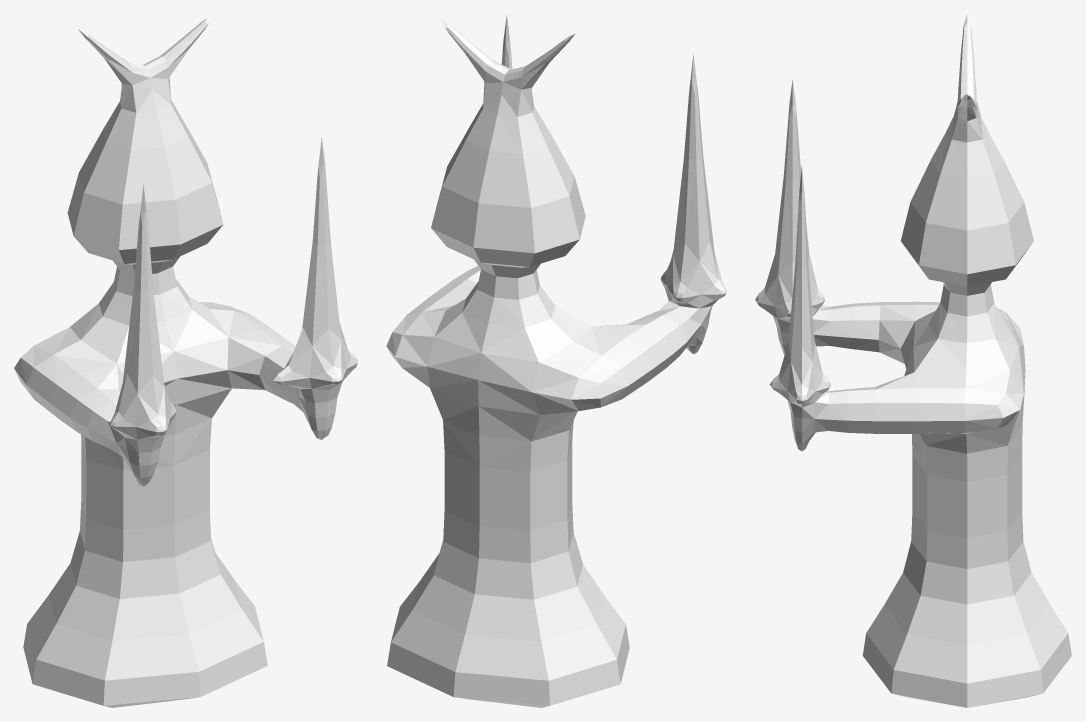
Rendered from wattacker.obj.
3 views of the same model, side by side, from view 1: azimuth 30°, elevation 25°; view 2: azimuth 150°, elevation 25°; view 3: azimuth 270°, elevation 25° (orthographic). The views are drawn at different scales.
Visible parts, largest first — view 1: Cube; view 2: Cube; view 3: Cube.
Part boxes in pixels (box(x1,y1,x2,y2)): Cube: box(14, 14, 357, 707); Cube: box(386, 14, 726, 707); Cube: box(755, 14, 1071, 707).
Bounding box in the file's own units: 4.56 × 11.48 × 5.24.
1 material, 1 textured.
